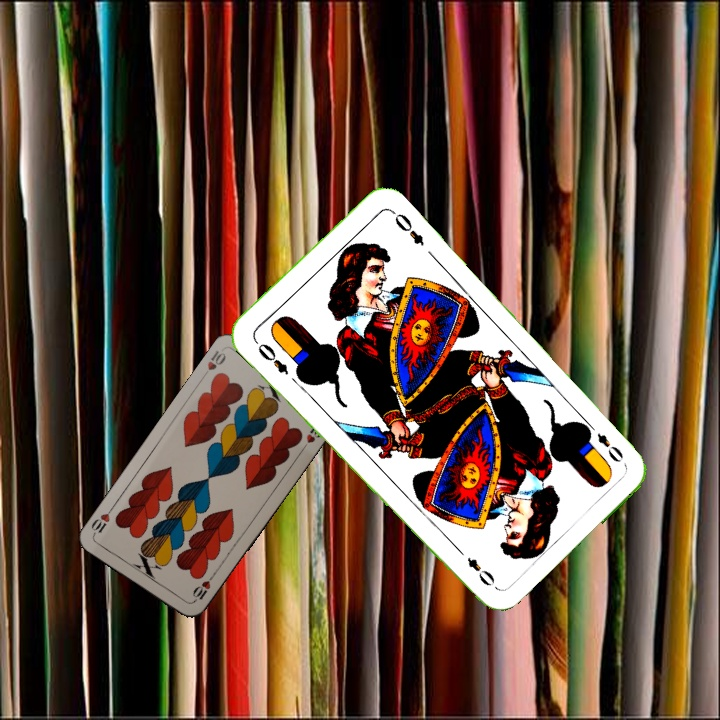EO: (250, 335, 292, 378), (592, 428, 626, 465)
H10: (198, 346, 228, 382), (188, 571, 217, 606)
